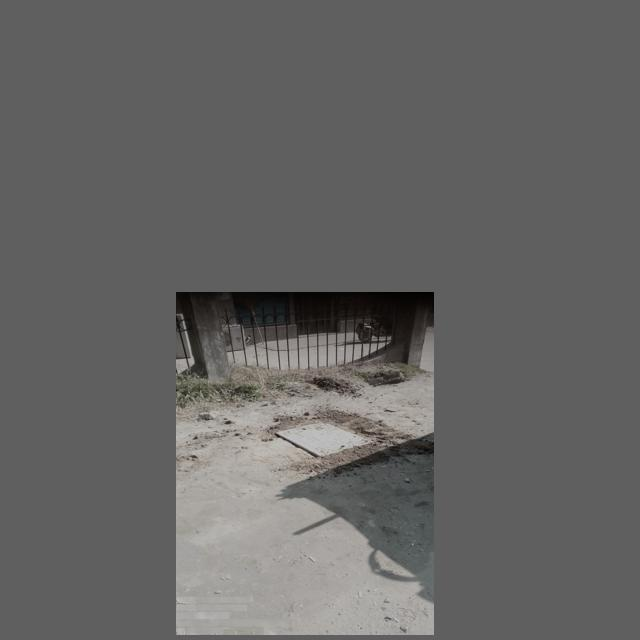good: (275, 421, 372, 455)
